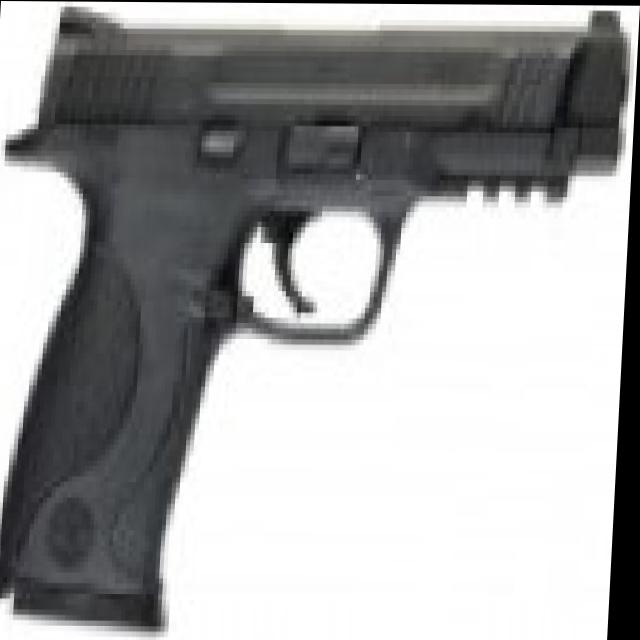handgun: (2, 0, 624, 633)
